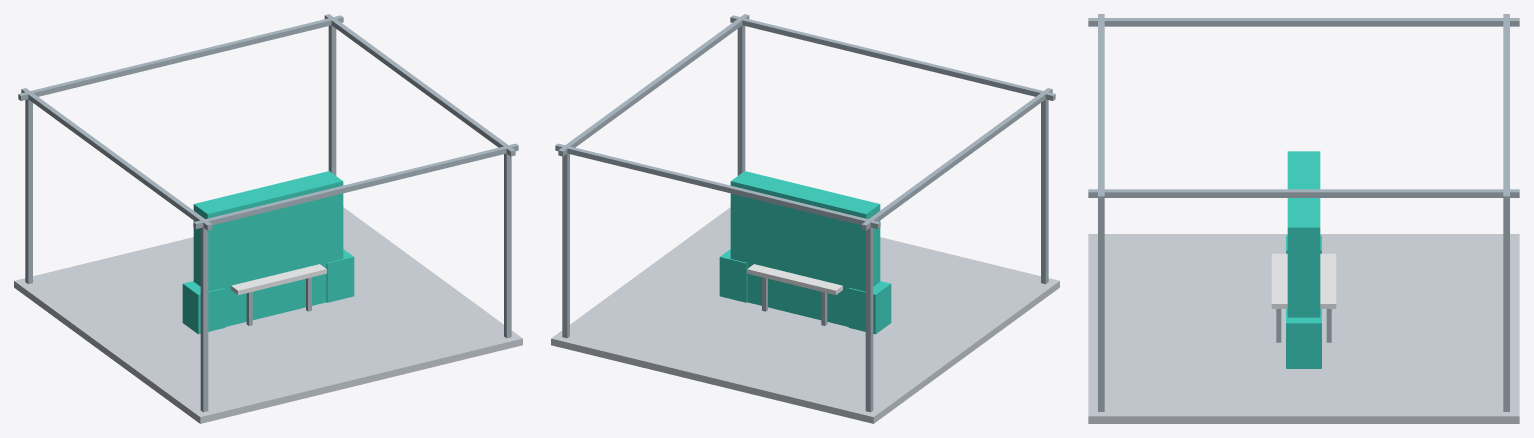
3 views of the same model, side by side, from view 1: azimuth 30°, elevation 25°; view 2: azimuth 150°, elevation 25°; view 3: azimuth 270°, elevation 25° (orthographic). The views are drawn at different scales.
Parts seen in each view (by area): view 1: Exhibition Booth Concept; view 2: Exhibition Booth Concept; view 3: Exhibition Booth Concept.
Part boxes in pixels (box(x1,y1,x2,y2)): Exhibition Booth Concept: box(14, 14, 522, 423); Exhibition Booth Concept: box(551, 14, 1059, 423); Exhibition Booth Concept: box(1088, 14, 1519, 423).
Bounding box in the file's own units: 6 × 3.49 × 6.
